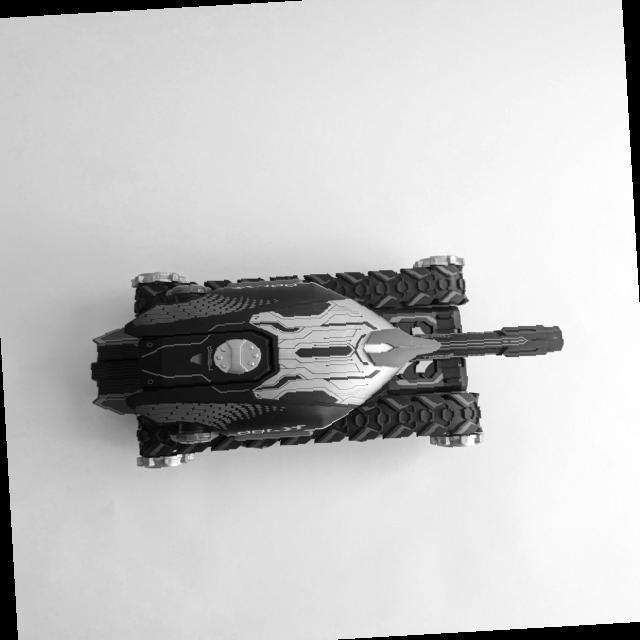barrel: (413, 323, 565, 358)
